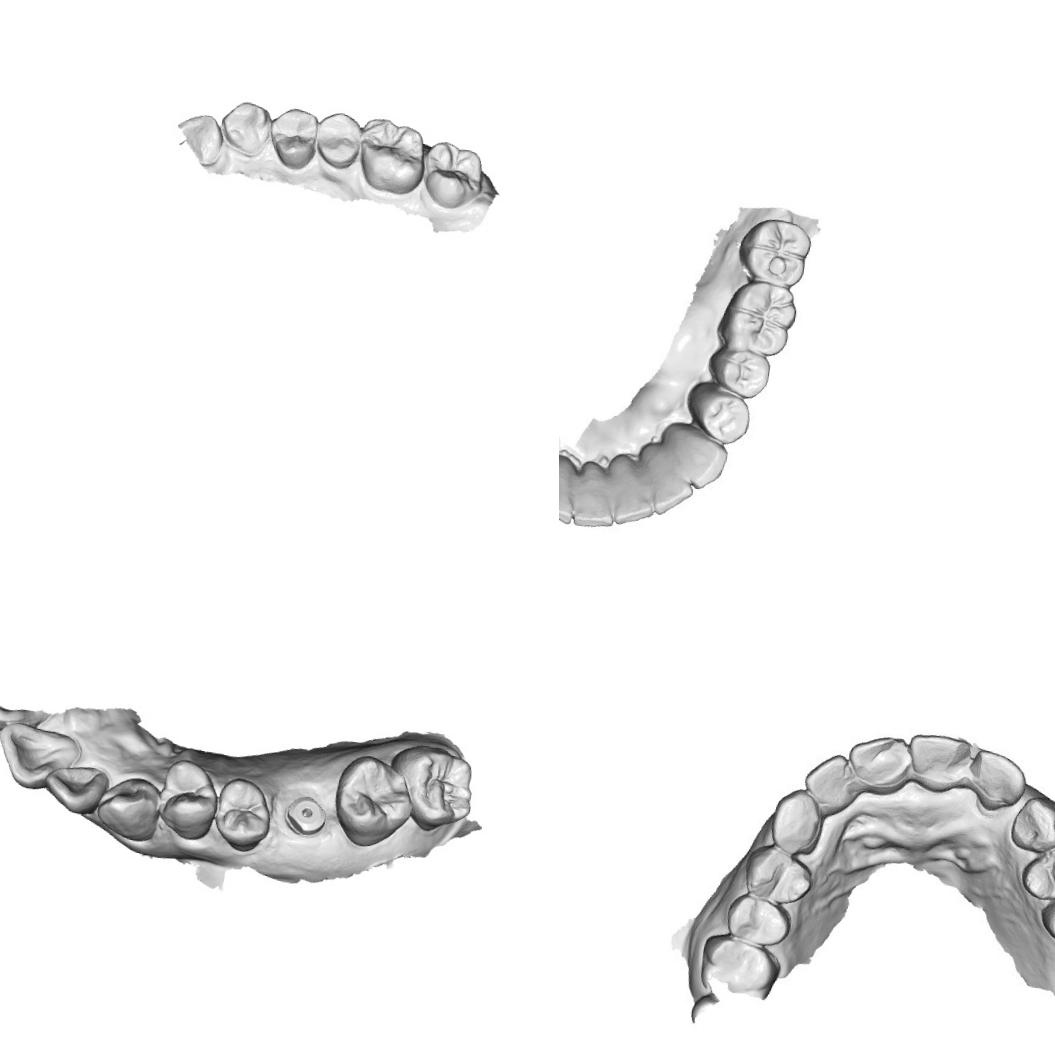canine: (90, 771, 165, 846), (657, 421, 731, 487), (768, 782, 828, 857), (216, 95, 275, 160), (1002, 793, 1055, 856)
implant: (284, 791, 334, 840)
incisor: (0, 718, 84, 796), (906, 733, 978, 796), (42, 758, 112, 820), (848, 733, 917, 795), (965, 746, 1028, 812), (638, 445, 697, 513), (604, 454, 660, 524), (570, 460, 622, 530), (173, 109, 226, 169), (802, 752, 855, 812), (559, 451, 585, 521)
molar: (327, 750, 420, 854), (382, 740, 480, 837), (696, 930, 787, 1010), (353, 114, 431, 200), (725, 280, 802, 362), (740, 215, 816, 287), (418, 136, 488, 214)
premolar: (154, 756, 224, 842), (211, 774, 277, 854), (740, 843, 815, 912), (263, 102, 322, 174), (725, 890, 794, 948), (311, 108, 368, 173), (692, 386, 754, 442), (1019, 836, 1055, 908), (721, 351, 772, 395)
